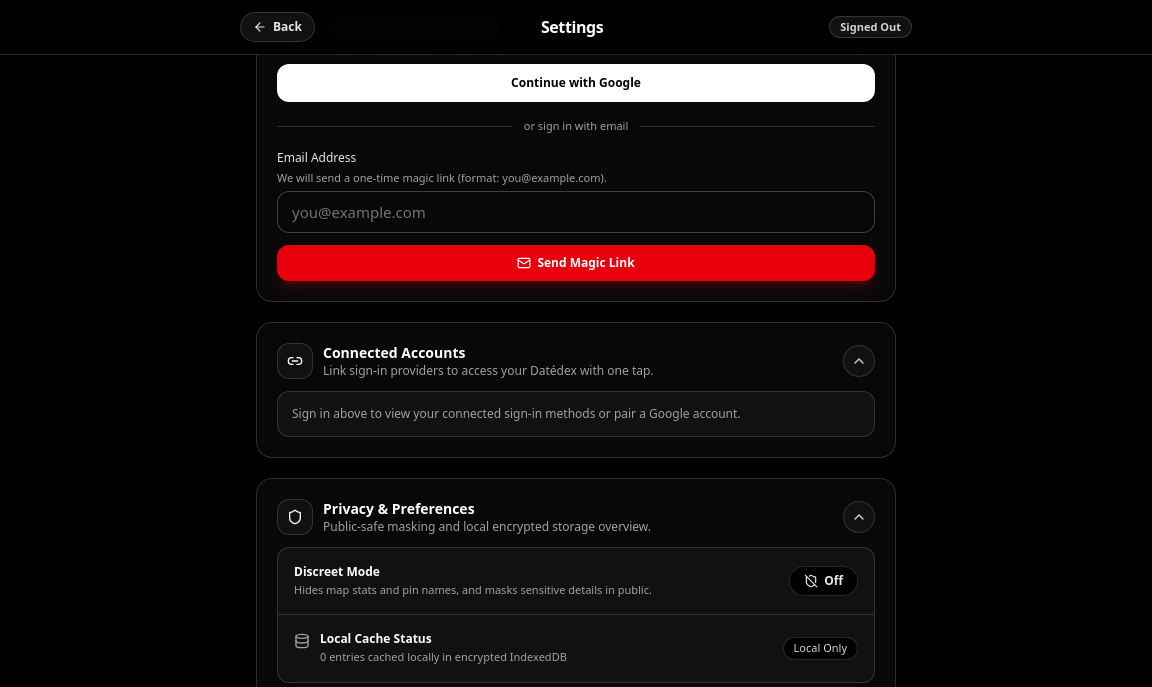
SettingsView › pins Plan & Billing first without a collapse toggle and toggles each remaining section independently
Earlier steps of the test are not shown.
(page scrolled)
Expected: the element with test id "account-auth-section-body" is shown, left=277, top=64, right=875, bottom=281
Expected: the element with test id "connected-accounts-section-body" is shown, left=277, top=391, right=875, bottom=437
Click the button named "Toggle Connected Accounts section" at (859, 361), box left=843, top=345, right=875, bottom=377
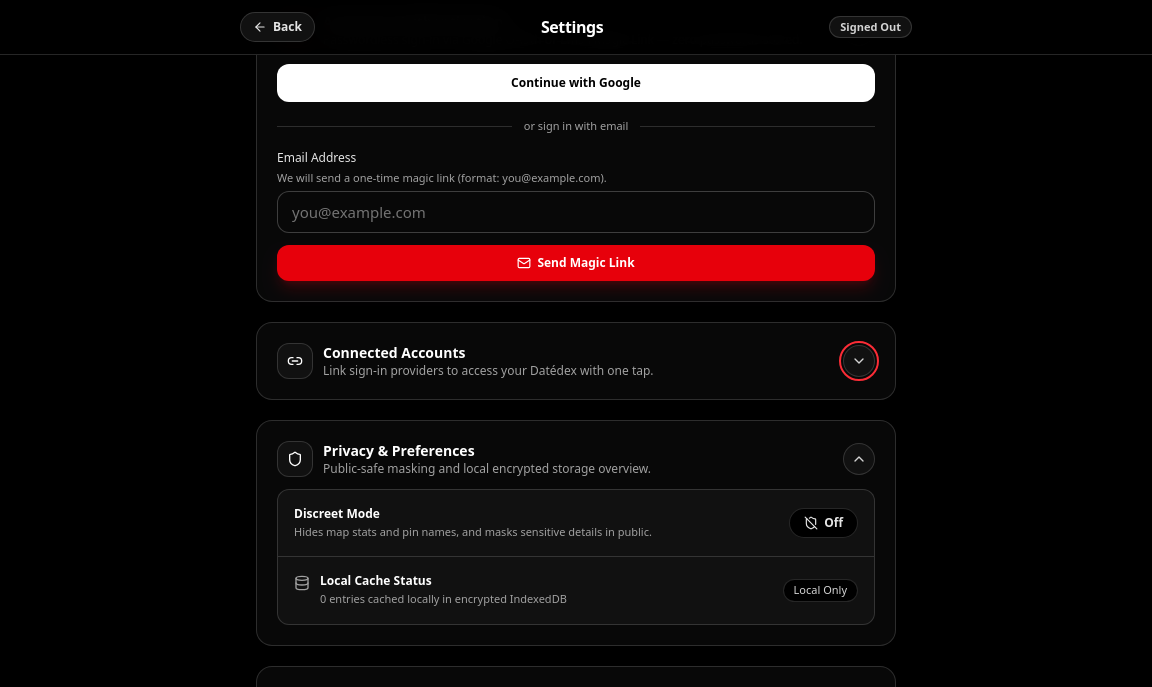
Result: the button named "Toggle Connected Accounts section" is collapsed
Result: the element with test id "connected-accounts-section-body" is gone
Click the button named "Toggle Connected Accounts section" at (859, 361), box left=843, top=345, right=875, bottom=377
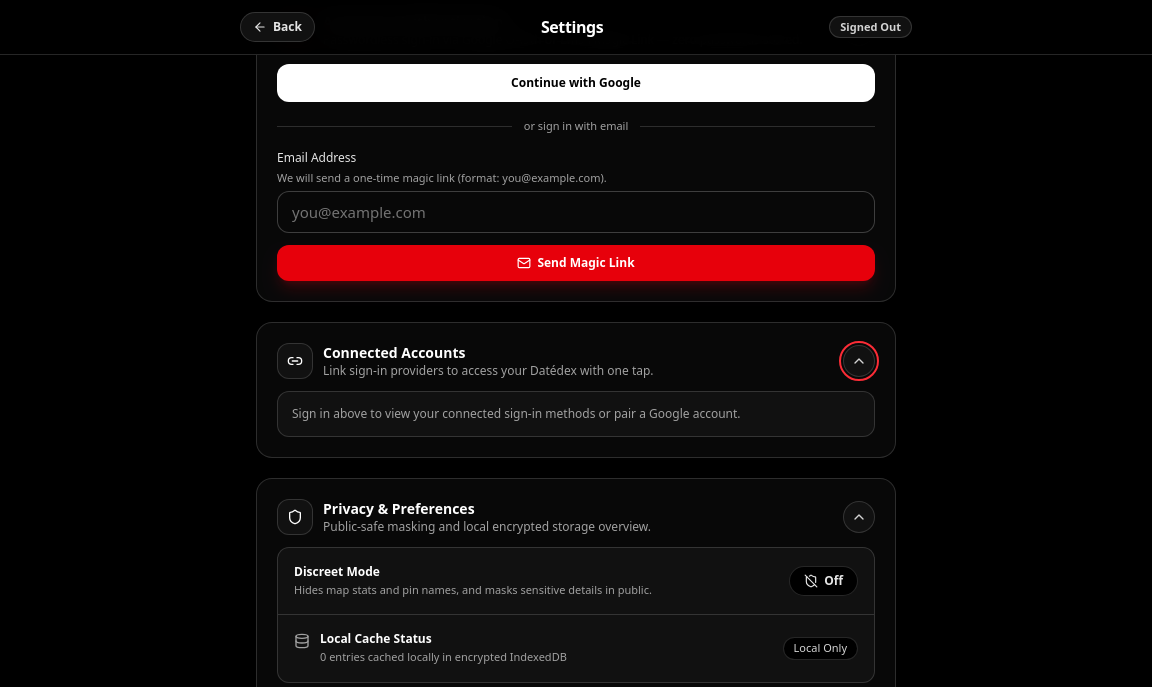
Expected: the element with test id "privacy-preferences-section-body" is shown, left=277, top=547, right=875, bottom=683
Result: the button named "Toggle Connected Accounts section" is expanded at left=843, top=345, right=875, bottom=377
Result: the element with test id "connected-accounts-section-body" is shown at left=277, top=391, right=875, bottom=437
Click the button named "Toggle Privacy & Preferences section" at (859, 517), box left=843, top=501, right=875, bottom=533
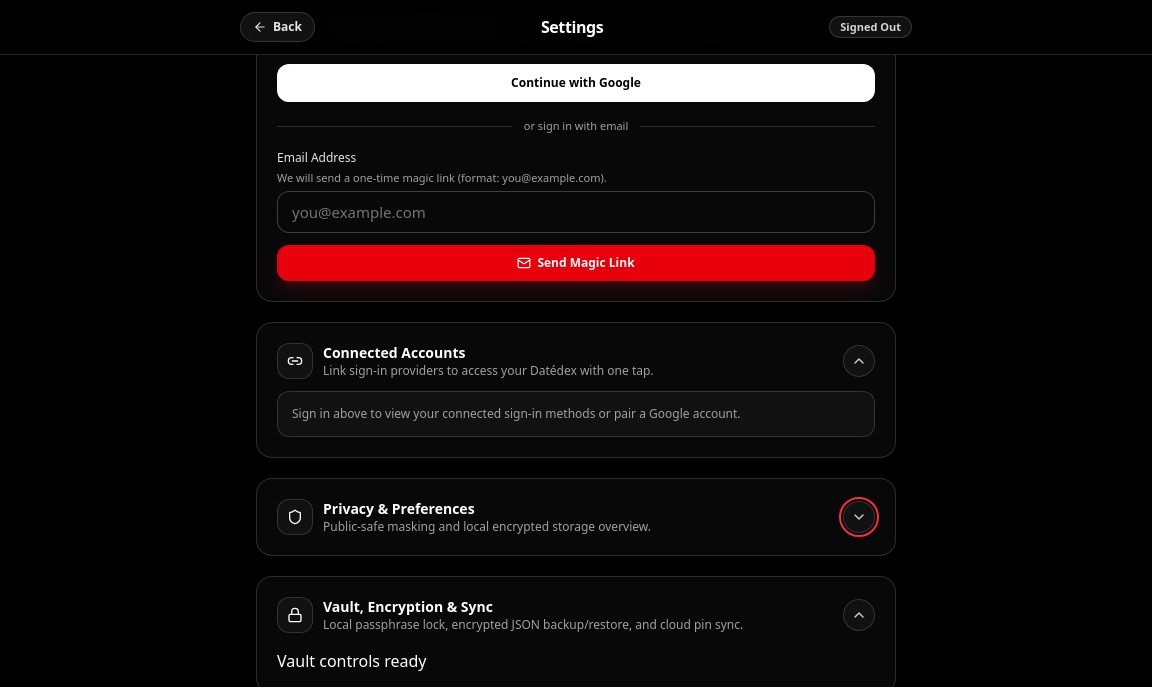
Result: the button named "Toggle Privacy & Preferences section" is collapsed
Result: the element with test id "privacy-preferences-section-body" is gone
Click the button named "Toggle Privacy & Preferences section" at (859, 517), box left=843, top=501, right=875, bottom=533
(page scrolled)
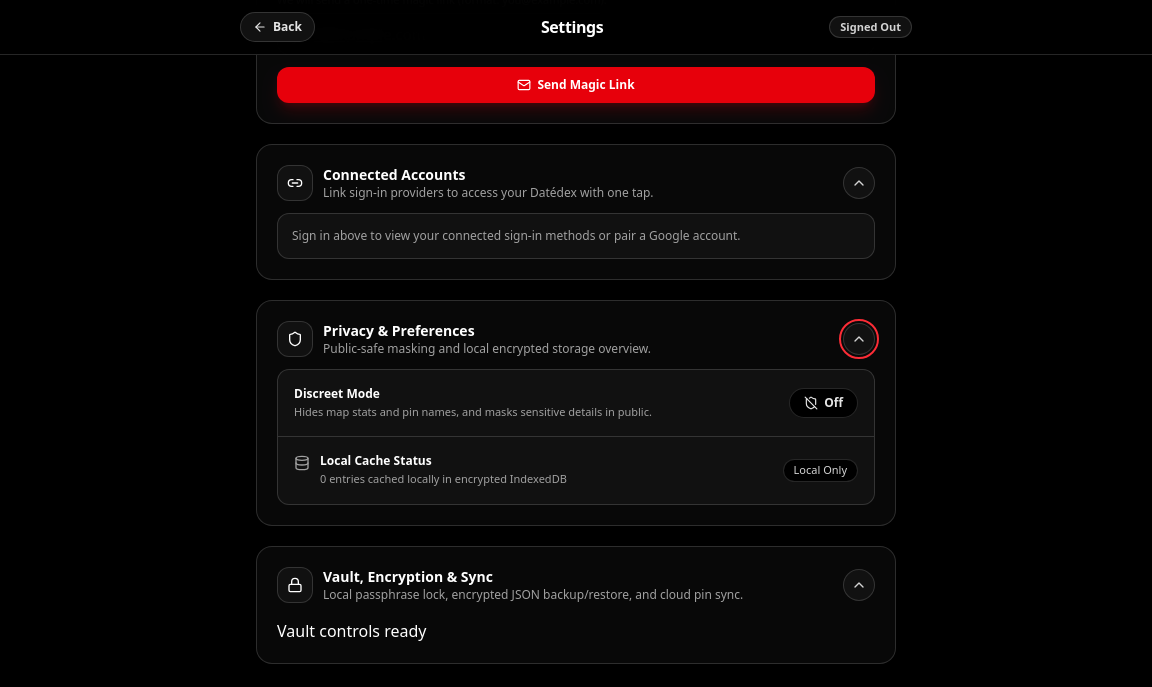
Expected: the element with test id "settings-vault-section-body" is shown, left=277, top=620, right=426, bottom=642
Result: the button named "Toggle Privacy & Preferences section" is expanded at left=843, top=323, right=875, bottom=355
Result: the element with test id "privacy-preferences-section-body" is shown at left=277, top=369, right=875, bottom=505
Click the button named "Toggle Vault, Encryption & Sync section" at (859, 585), box left=843, top=569, right=875, bottom=601
(page scrolled)
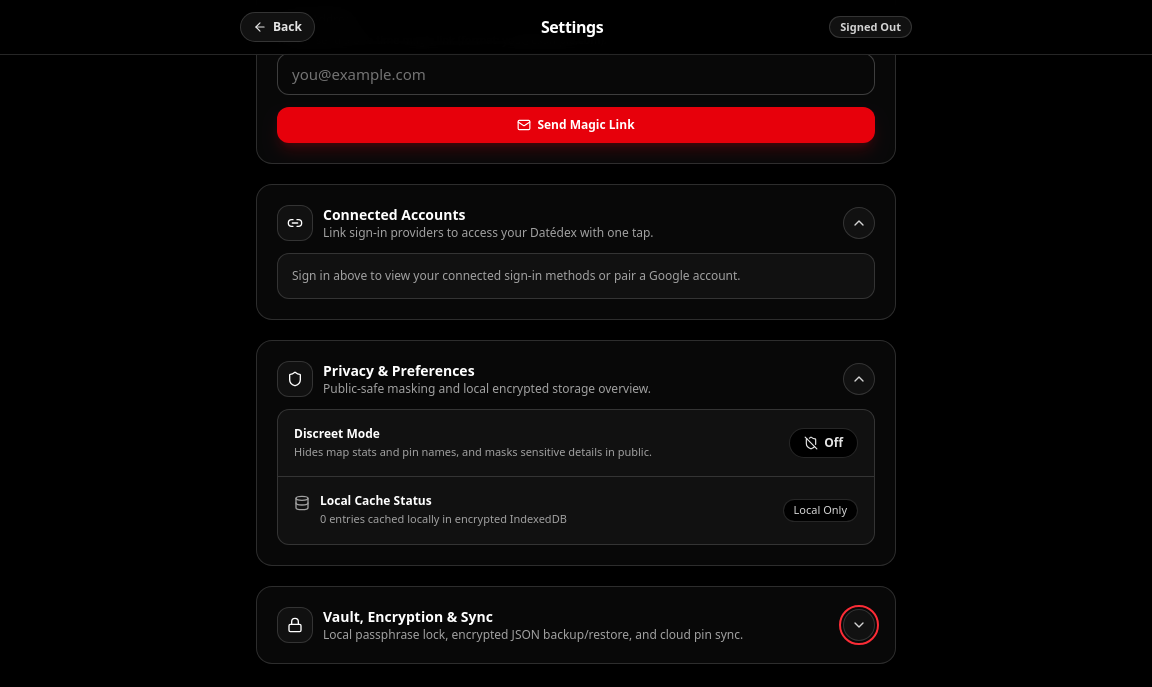
Result: the button named "Toggle Vault, Encryption & Sync section" is collapsed
Result: the element with test id "settings-vault-section-body" is gone
Click the button named "Toggle Vault, Encryption & Sync section" at (859, 625), box left=843, top=609, right=875, bottom=641
(page scrolled)
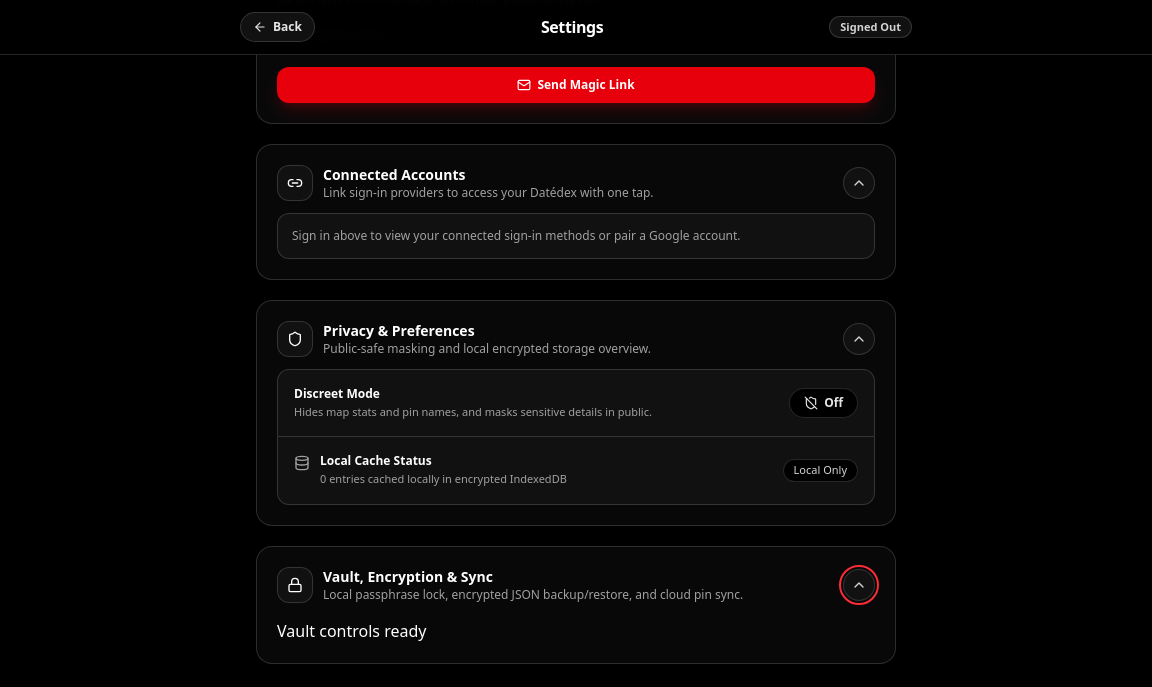
Result: the button named "Toggle Vault, Encryption & Sync section" is expanded at left=843, top=569, right=875, bottom=601
Result: the element with test id "settings-vault-section-body" is shown at left=277, top=620, right=426, bottom=642
